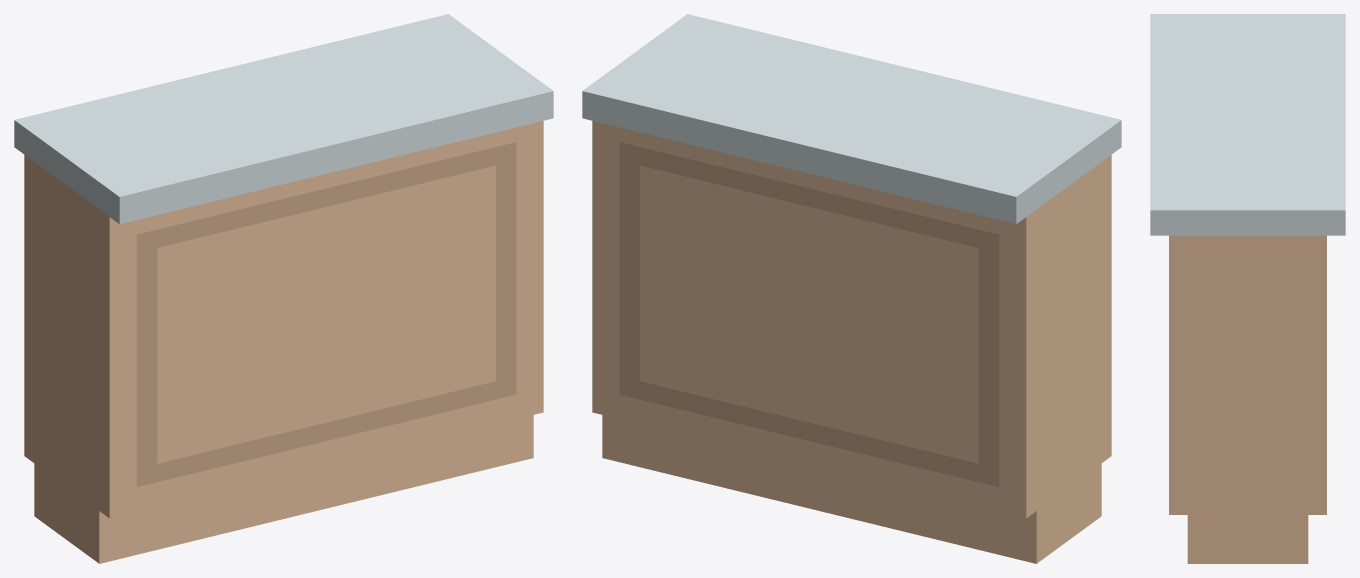
Rendered from kitchenBar-col.glb.
The picture shows the model from 3 angles, left to right: view 1: azimuth 30°, elevation 25°; view 2: azimuth 150°, elevation 25°; view 3: azimuth 270°, elevation 25°; orthographic projection. The views are drawn at different scales.
Parts seen in each view (by area): view 1: kitchenBar-col; view 2: kitchenBar-col; view 3: kitchenBar-col.
Boxes of the visible parts, left/top/right/bottom form: kitchenBar-col: left=14, top=14, right=553, bottom=563; kitchenBar-col: left=582, top=14, right=1121, bottom=563; kitchenBar-col: left=1150, top=14, right=1345, bottom=563.
Bounding box in the file's own units: 0.5 × 0.42 × 0.21.
